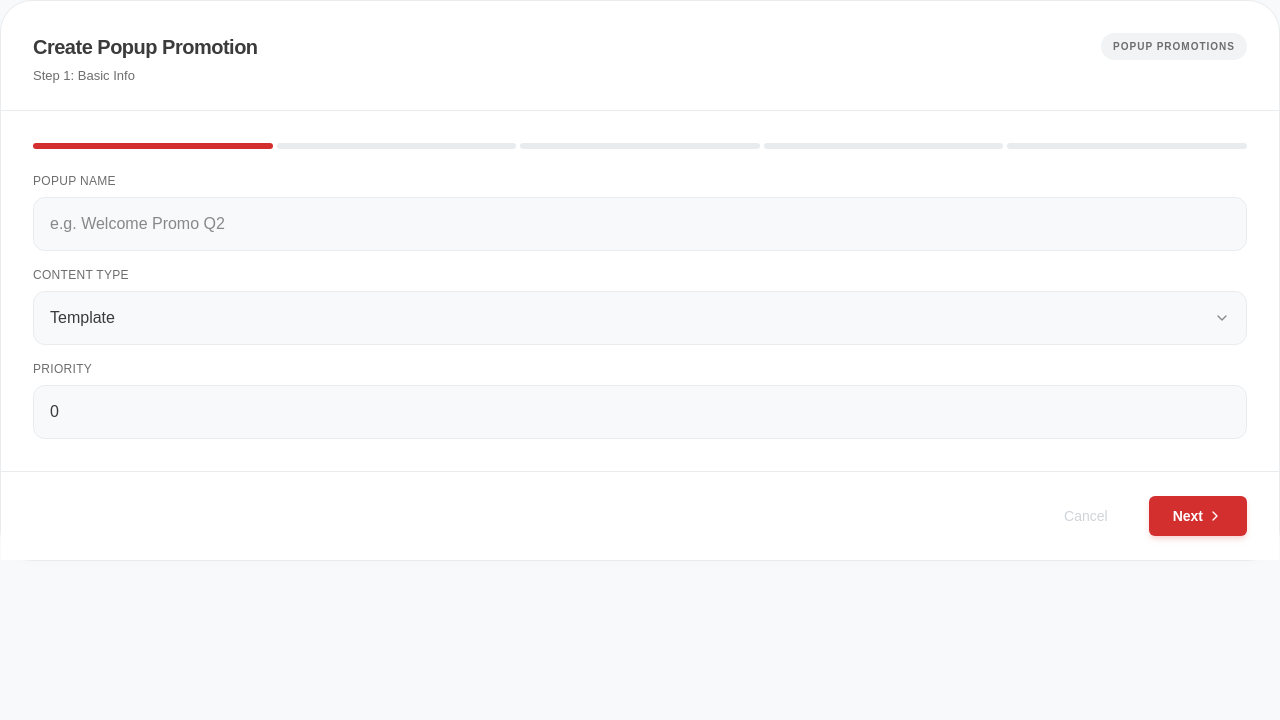
PopupPromotionCreatePage › step navigation › navigates to step 2 on Next click
What coordinates should you click on to do the following:
click the button "Next"
I would click on:
 (1198, 516)
Its box is [1149,496,1247,536].
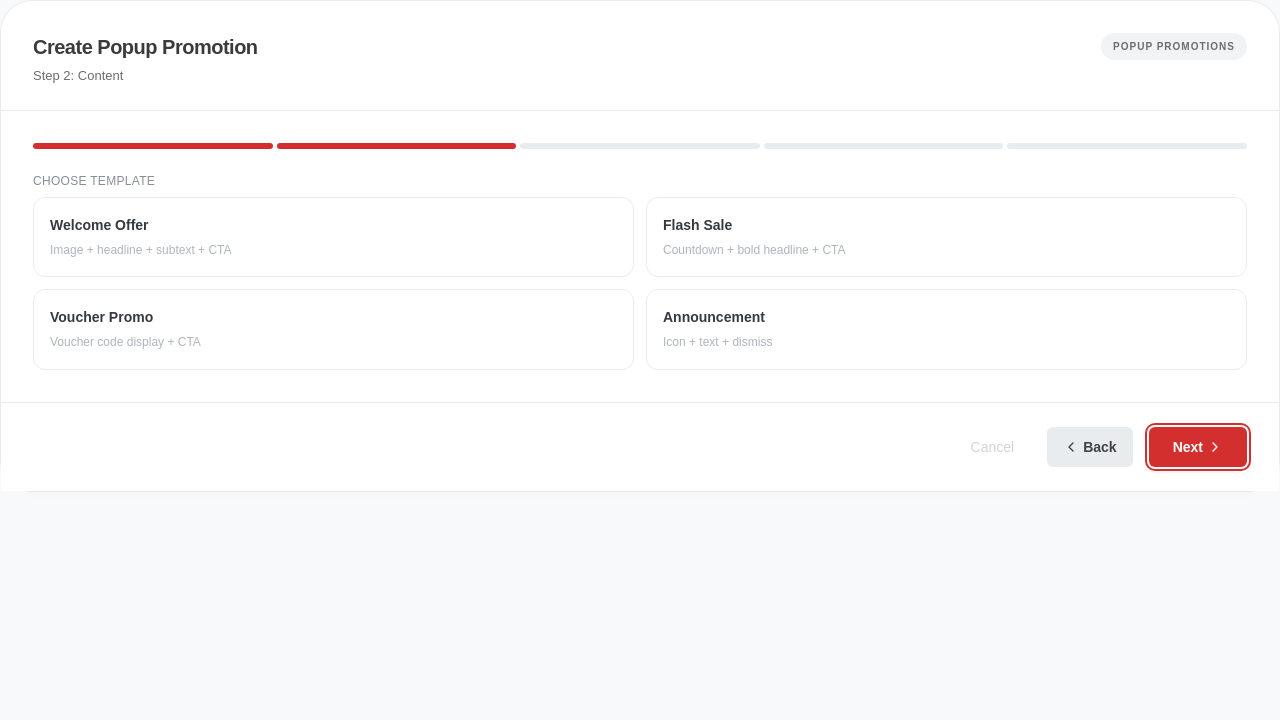
Expected: the text "Step 2: Content" is shown, [33,68,123,83]
